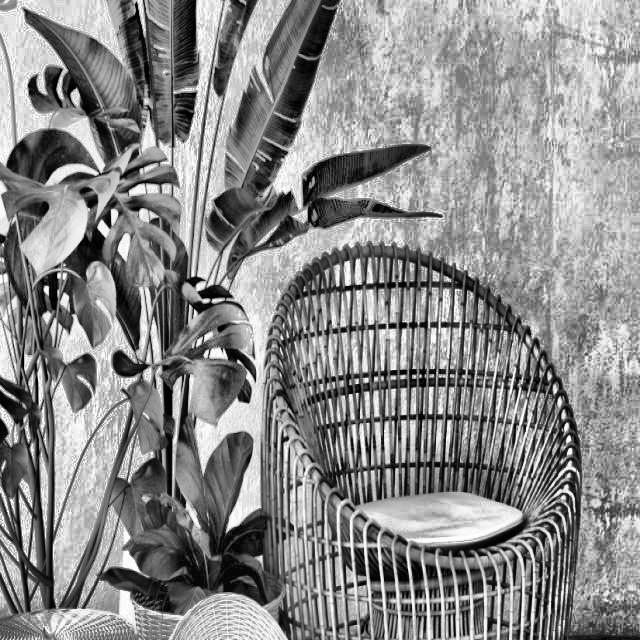plants: (0, 0, 279, 639)
